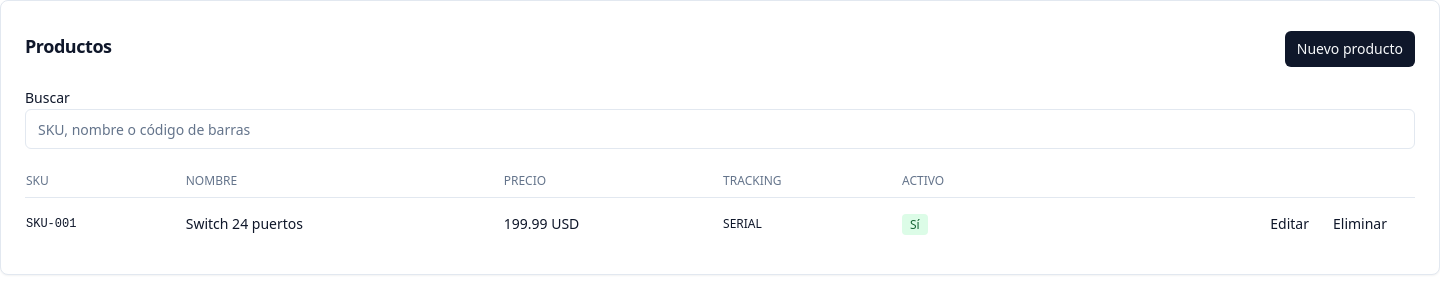
Scenario: ProductsPage › filtra por SKU al escribir en el buscador
Expected: the text "Switch 24 puertos" is shown, top-left (185, 198), bottom-right (503, 250)
In the field labelled "Buscar": x=720, y=129 top-left (25, 109), bottom-right (1415, 149), type "no-existe"
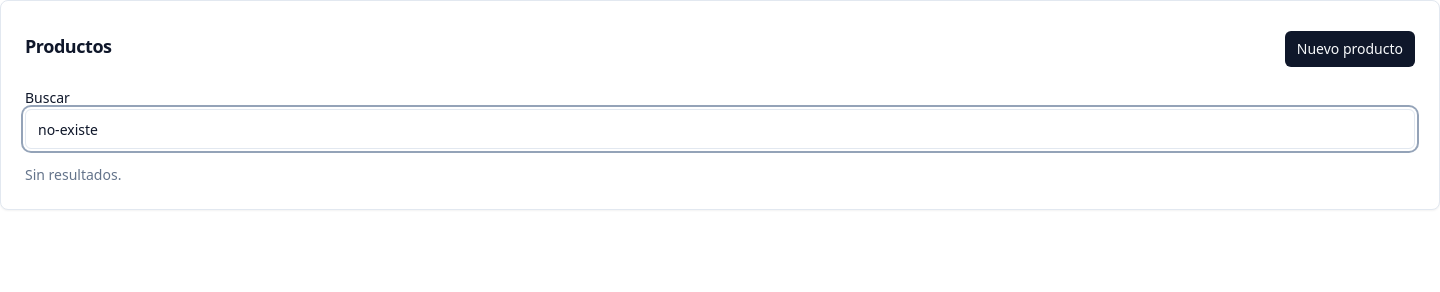
Expected: the text "Switch 24 puertos" is gone
Expected: the text "Sin resultados." is shown, top-left (25, 165), bottom-right (121, 184)
